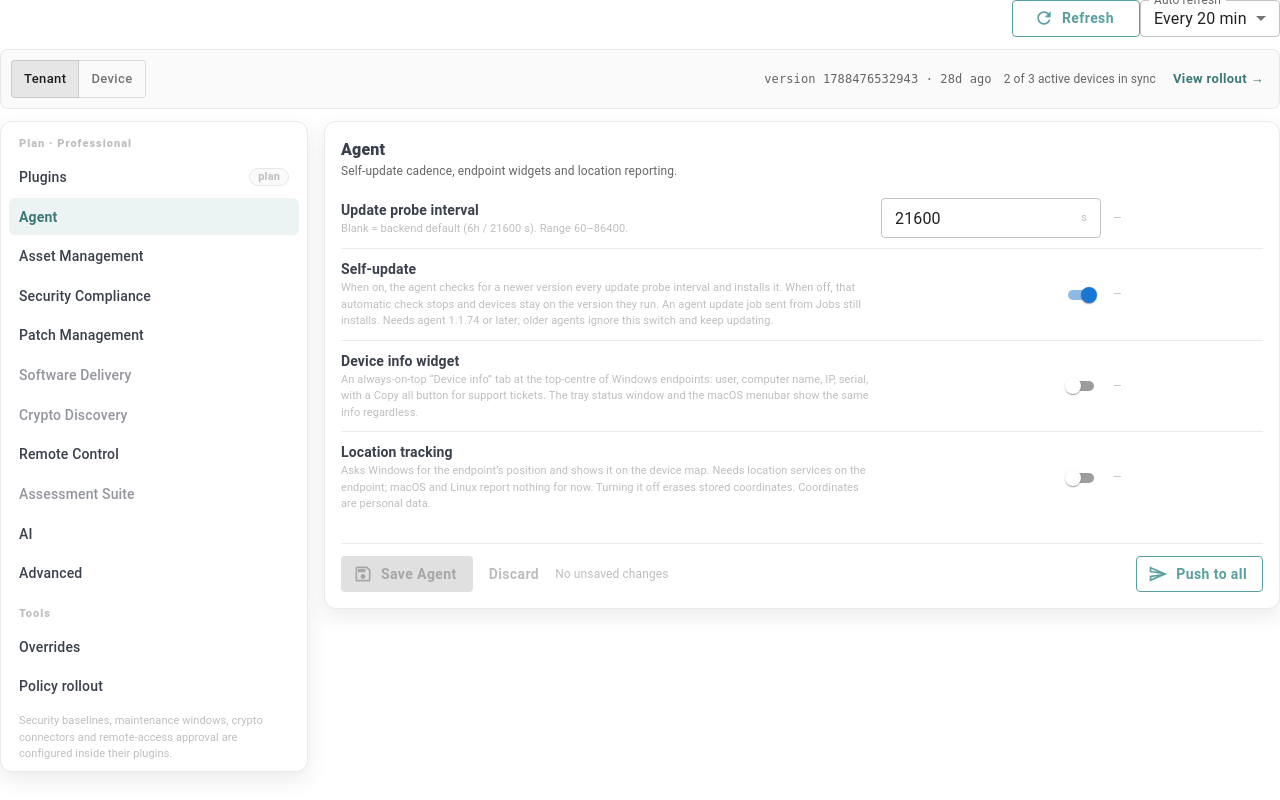
Test: saving two sections › Discard puts the current section back without touching the other one
Replace the text in the number field named "Update probe interval" with "7200" at (979, 218), box [881, 198, 1077, 238]
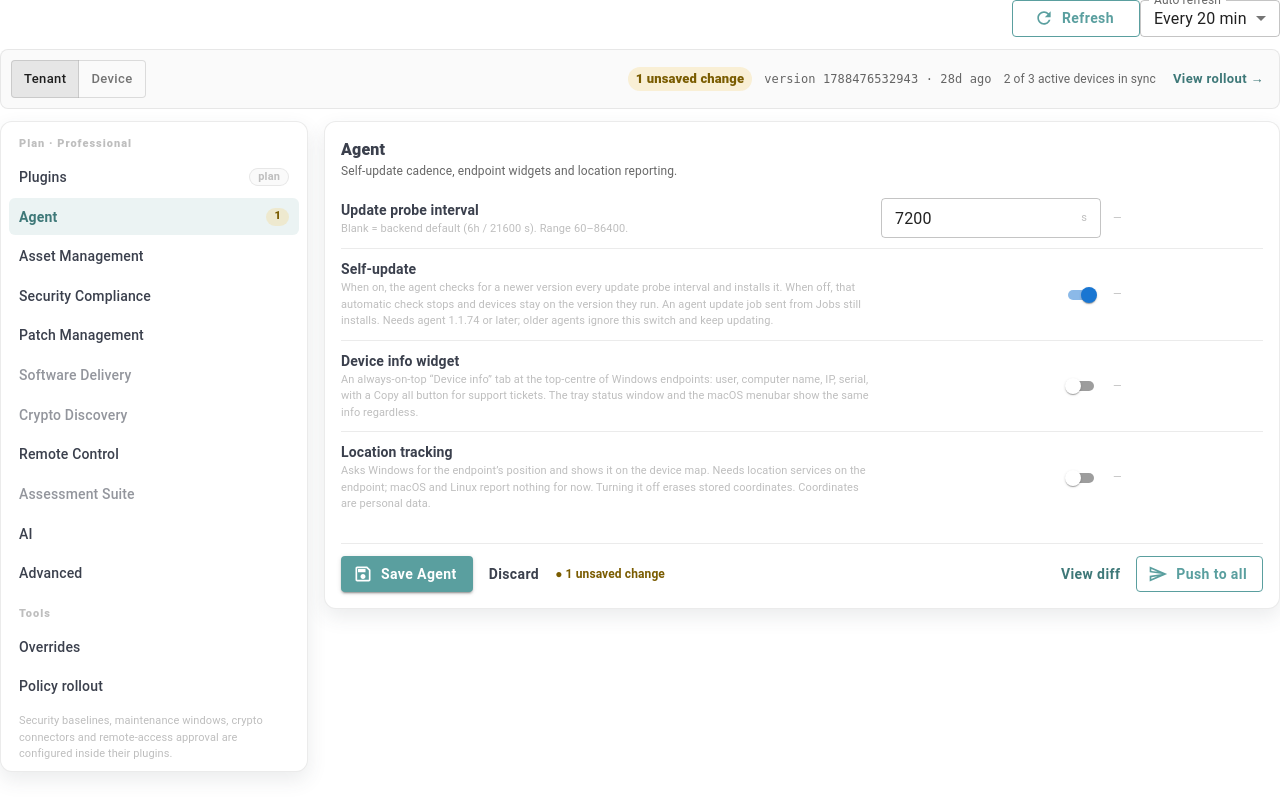
Click the button "Security Compliance" at (85, 296), box [19, 288, 151, 304]
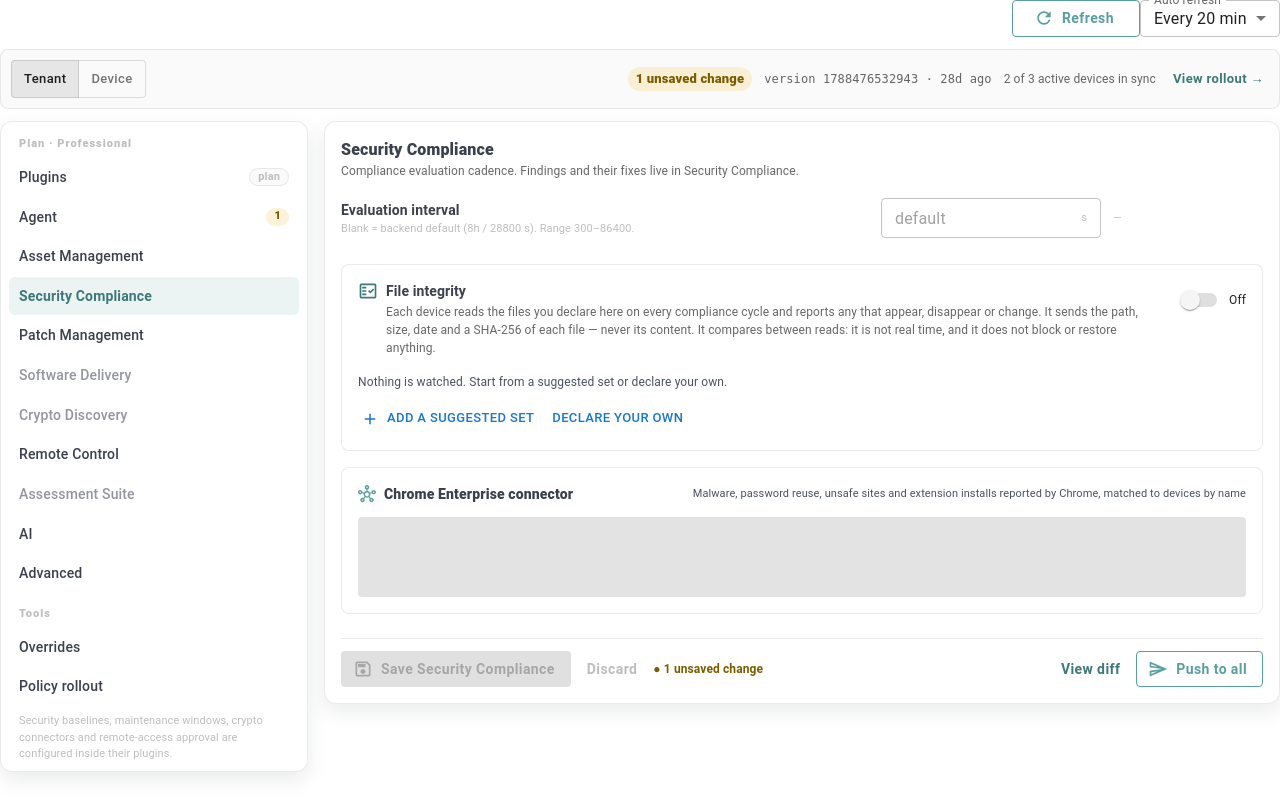
Type "3600" into the number field named "Evaluation interval" at (979, 218), box [881, 198, 1077, 238]
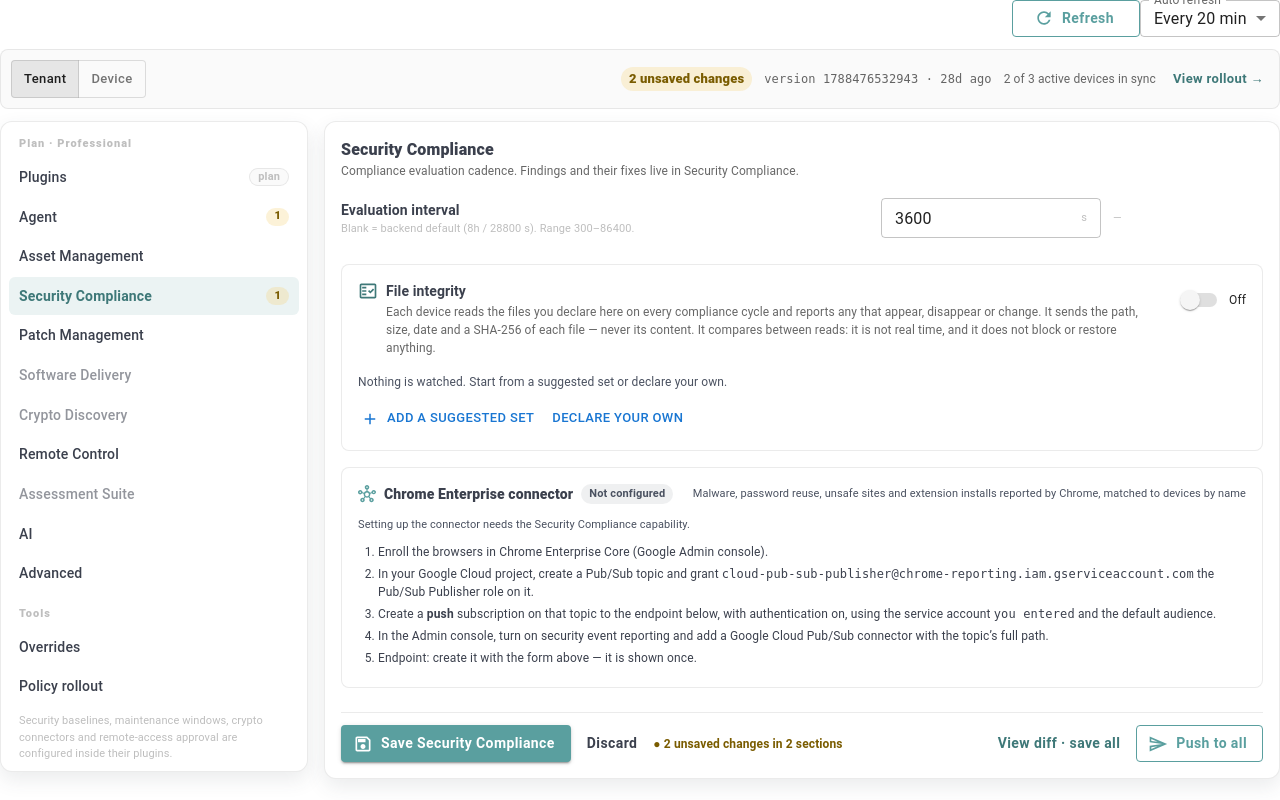
Now the text "● 2 unsaved changes in 2 sections" is shown, box [653, 735, 843, 753]
Click the button "Discard" at (612, 744), box [579, 726, 645, 762]
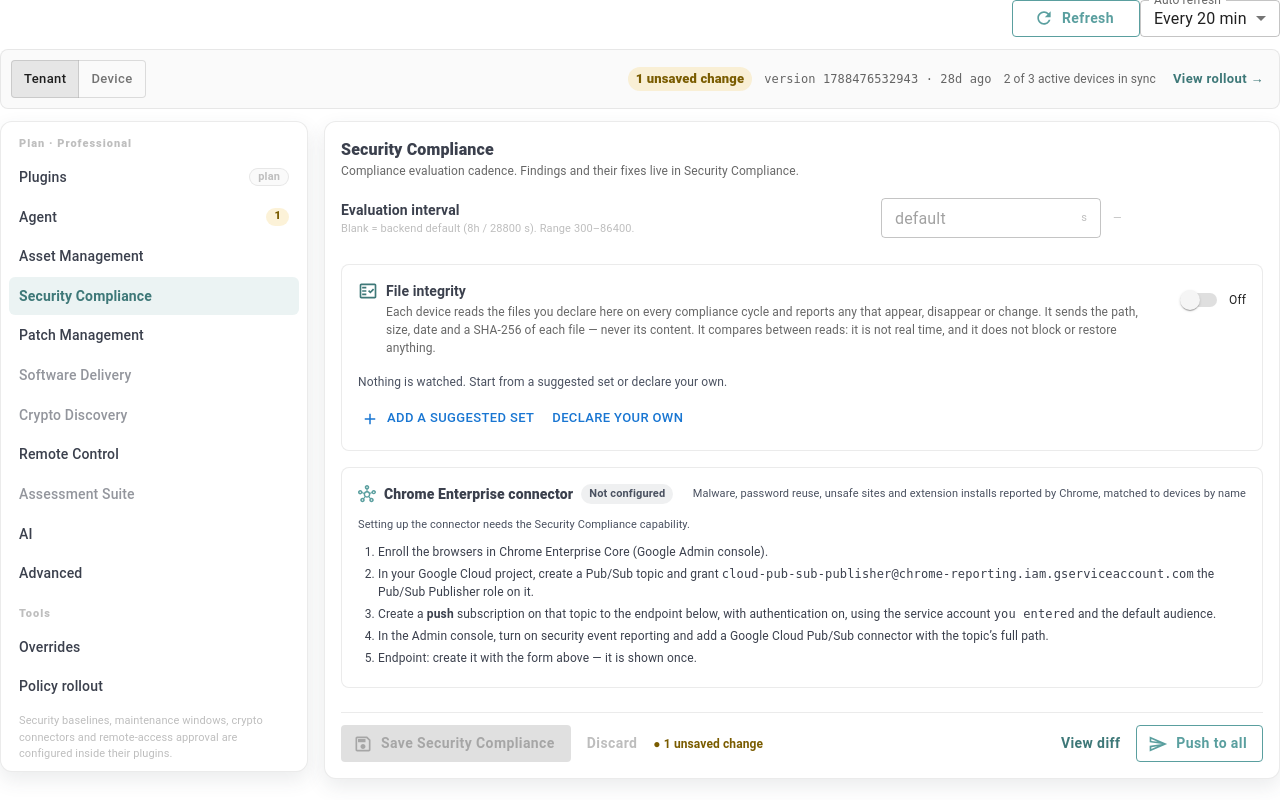
Expected: the element named "1 unsaved change in Agent" is shown, [266, 208, 289, 226]
Now the text "● 1 unsaved change" is shown, box [653, 735, 763, 753]
Now the number field named "Evaluation interval" is not empty, box [881, 198, 1077, 238]
